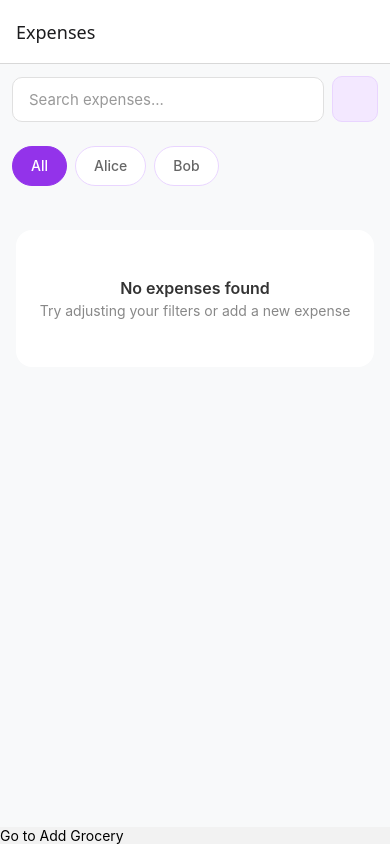
it: expense lifecycle flow › creates an expense from AddGroceryScreen and sees it after returning to ExpensesScreen
Expected: the text "No expenses found" is shown, [120,278,270,298]
Click the text "Go to Add Grocery" at (62, 836), box [0,827,124,843]
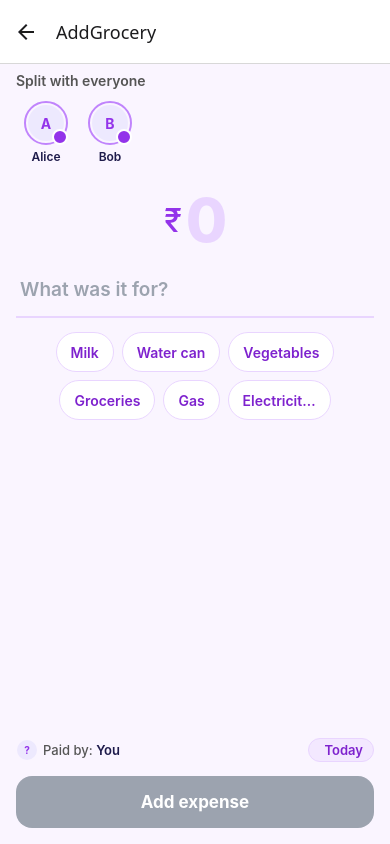
Expected: the field with placeholder "What was it for?" is shown, [20,272,370,307]
Type "50" into the field with test id "amount-input-ADD EXPENSE" at (206, 220), box [186,184,226,256]
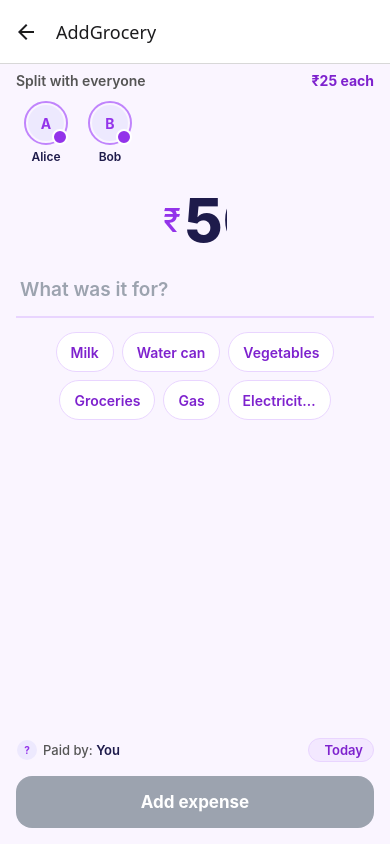
Type "Milk" into the field with placeholder "What was it for?" at (195, 290), box [20,272,370,307]
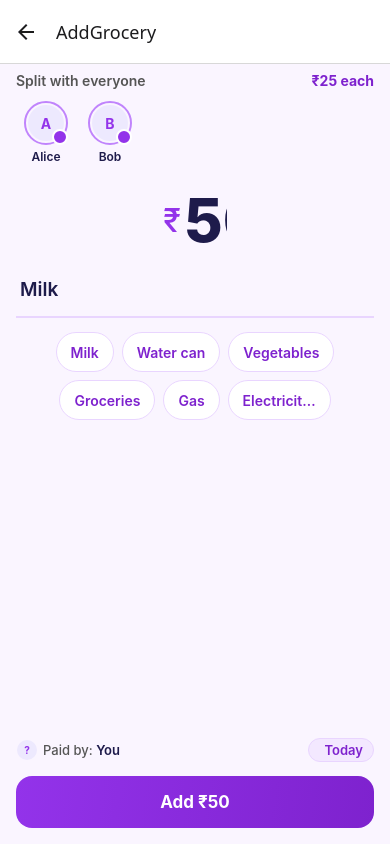
Click the button "Add ₹50" at (195, 802), box [16,776,374,828]
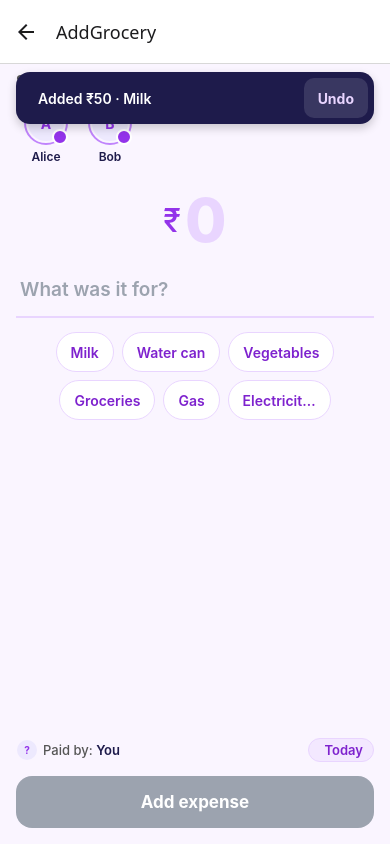
Expected: the text "Added ₹50 · Milk" is shown, [38,90,151,106]
